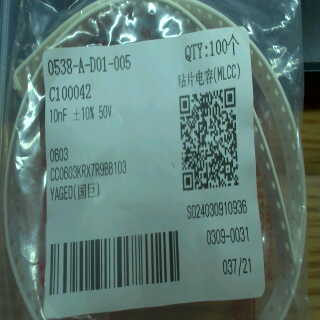10nF: (46, 104, 71, 126)
